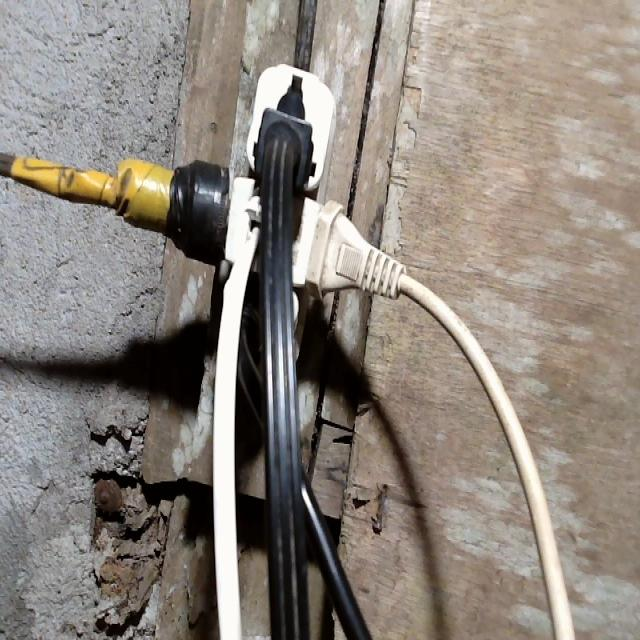-: (117, 53, 398, 370)
